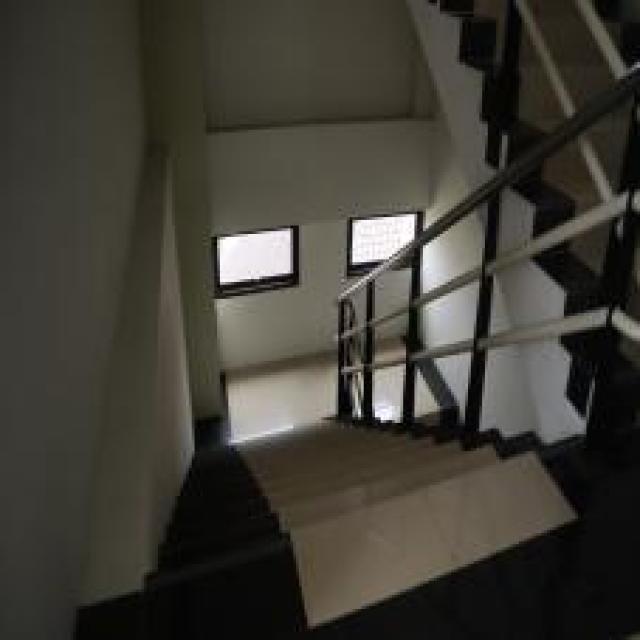downstair: (185, 447, 574, 638)
